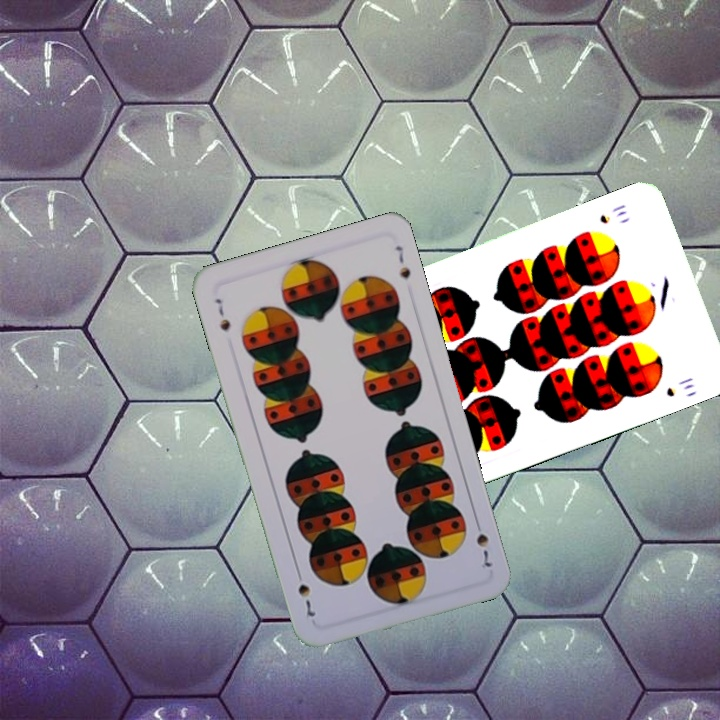S10: (595, 200, 630, 227)
S7: (471, 515, 496, 573), (211, 294, 233, 334)
